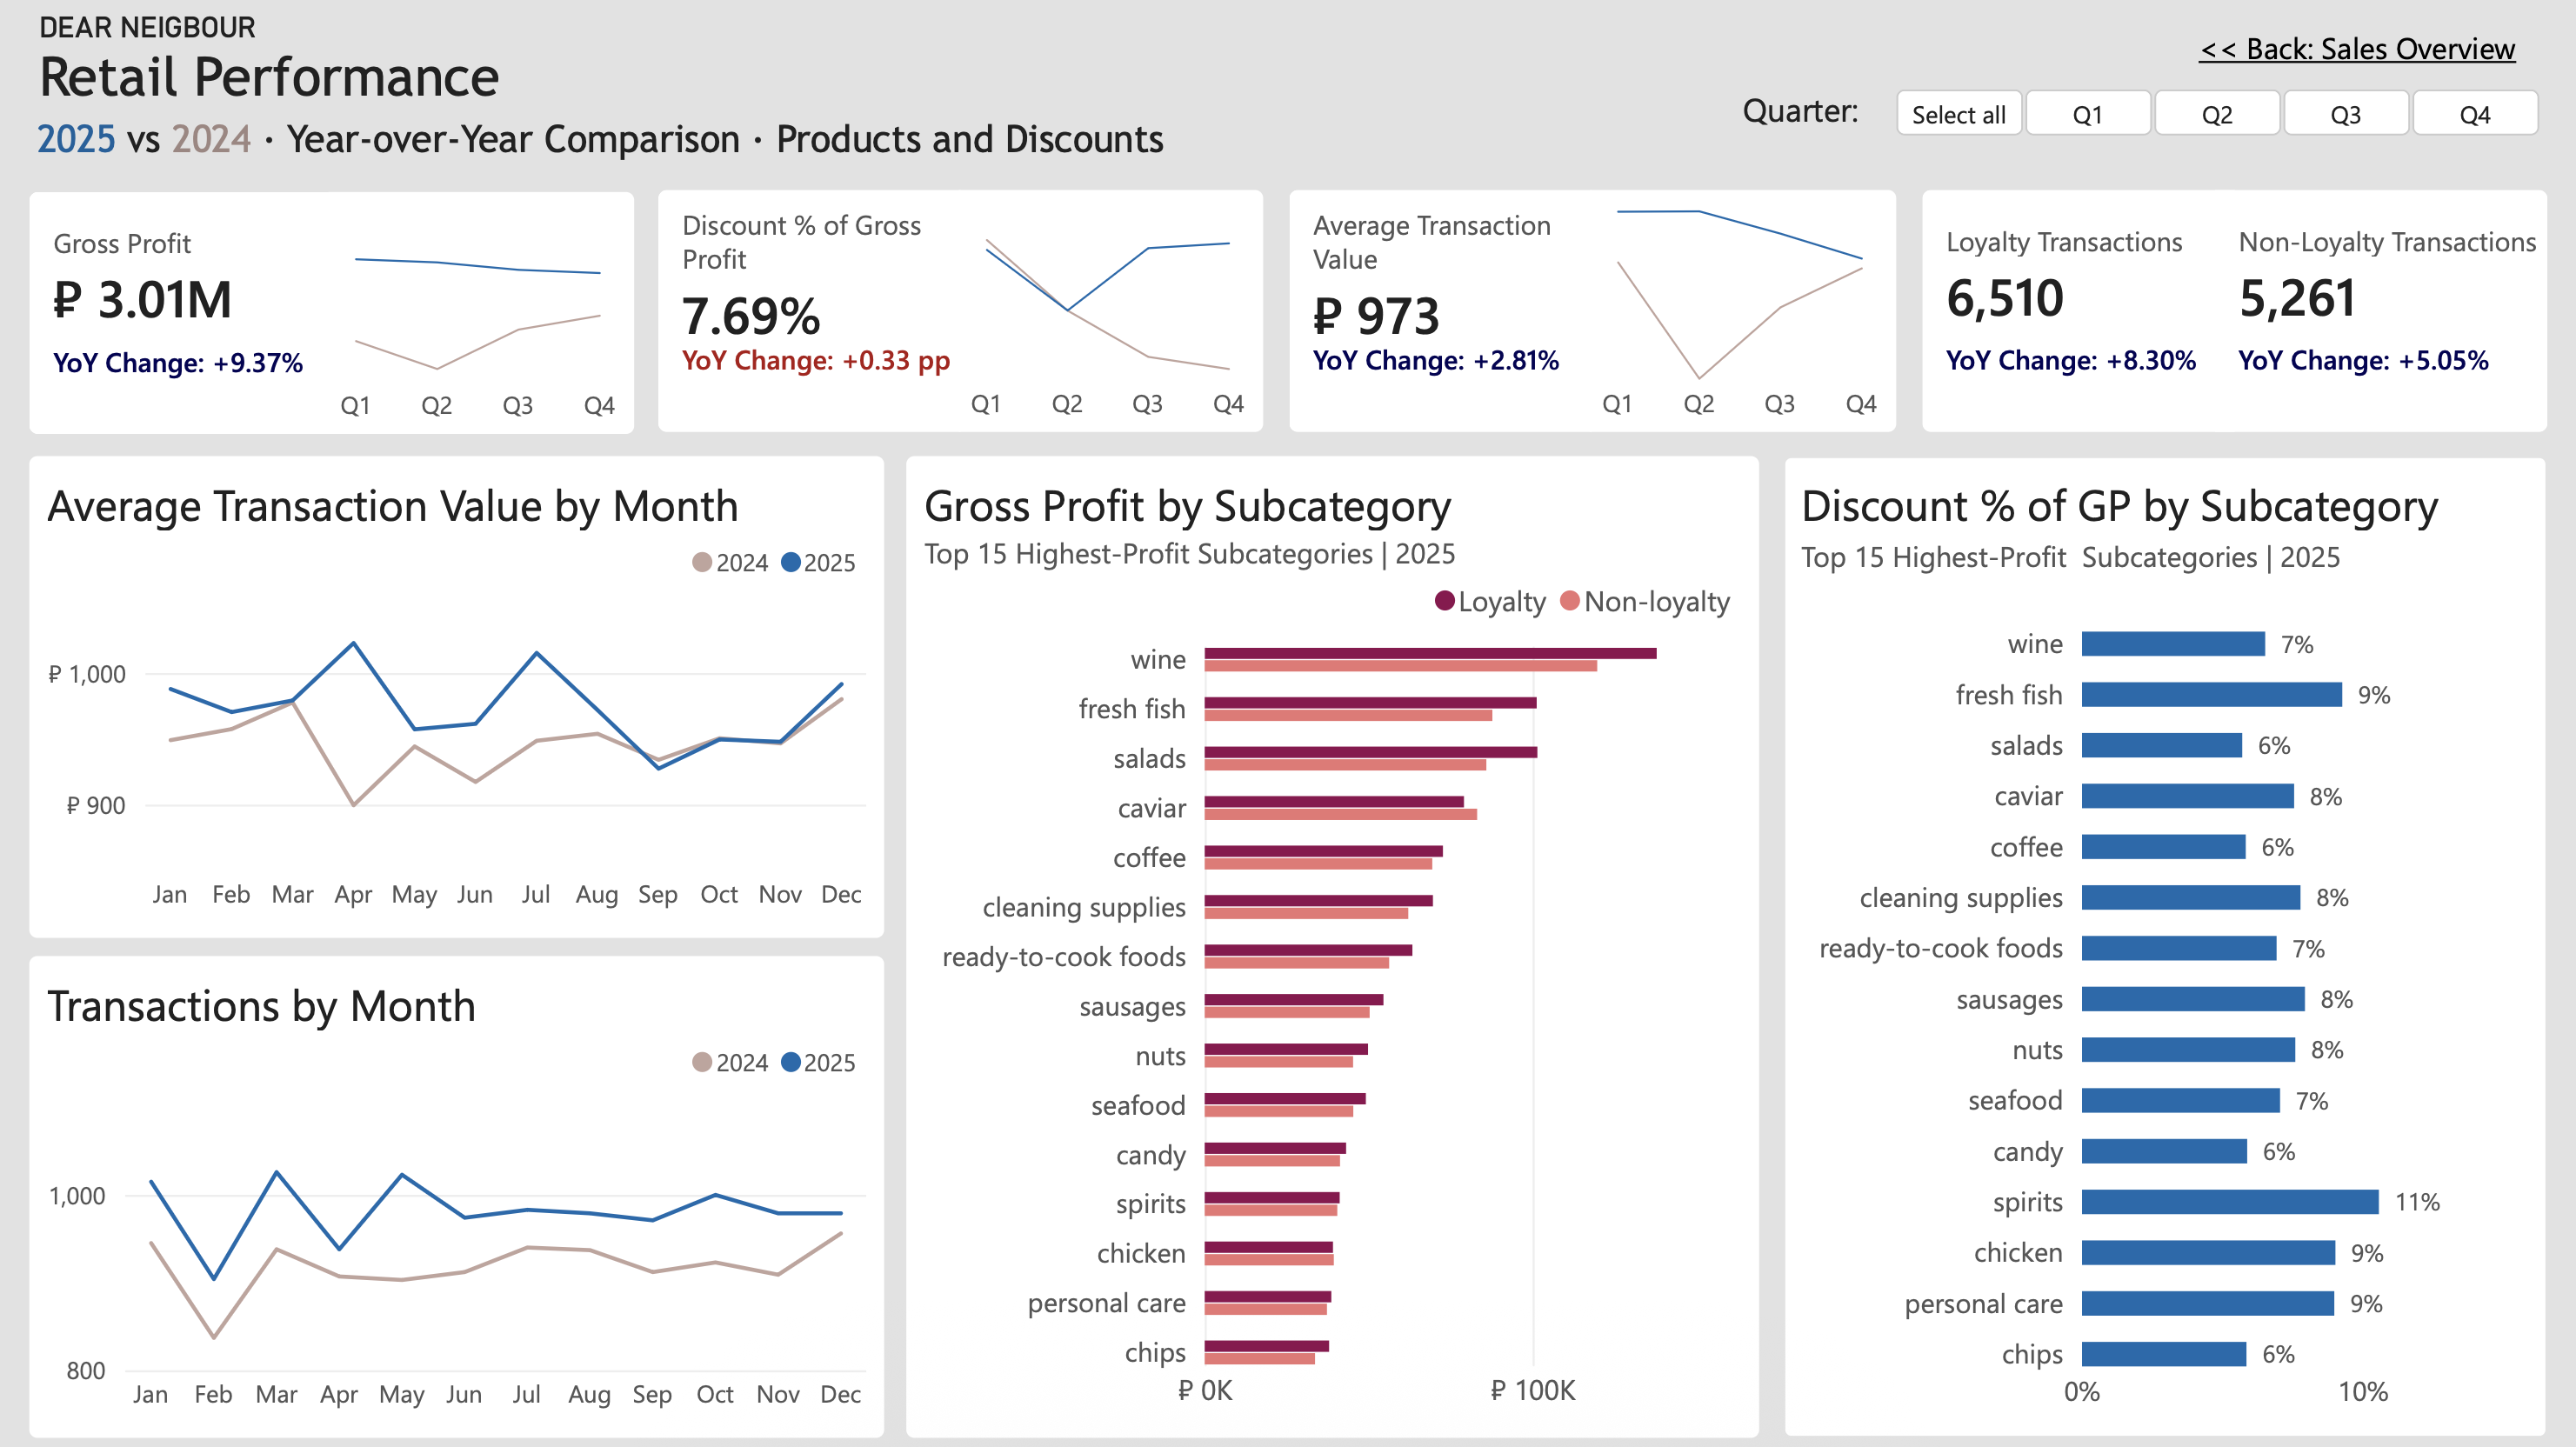

This screenshot's page, from the dashboard's own definition file:
{"tool":"powerbi","page":{"name":"Customers & Loyalty","canvas":[1280,720],"ordinal":1},"visuals":[{"type":"textbox","box":[0,0,290,60],"z":0},{"type":"advancedSlicerVisual","fields":{"Values":["calendar.Quarter"]},"box":[936,43,325,25],"z":1000},{"type":"textbox","box":[0,53.5,644.9,33.1],"z":2000},{"type":"cardVisual","fields":{"Data":["fact_sales.Discount % of Gross Profit"]},"box":[330,95,150,120],"z":3000},{"type":"cardVisual","fields":{"Data":["fact_sales.Average Check"]},"box":[645,95,150,120],"z":4000},{"type":"cardVisual","fields":{"Data":["fact_sales.Loyalty Transactions"]},"box":[962.1,95,150,120],"z":5000},{"type":"lineChart","title":"Gross Margin","fields":{"Category":["calendar.Quarter"],"Series":["calendar.Year"],"Y":["fact_sales.Average Check"]},"box":[793.3,95,154.1,120],"z":6000},{"type":"lineChart","title":"Gross Margin","fields":{"Category":["calendar.Quarter"],"Series":["calendar.Year"],"Y":["fact_sales.Gross Profit"]},"box":[161.4,95.9,154.5,120],"z":7000},{"type":"lineChart","title":"Gross Margin","fields":{"Category":["calendar.Quarter"],"Series":["calendar.Year"],"Y":["fact_sales.Discount % of Gross Profit"]},"box":[476,95,154.1,120],"z":8000},{"type":"cardVisual","fields":{"Data":["fact_sales.Non-Loyalty Transactions"]},"box":[1112.1,95,150,120],"z":9000},{"type":"clusteredBarChart","title":"Gross Profit by Subcategory","fields":{"Category":["dim_products.subcategory"],"Series":["fact_sales.Customer Type"],"Y":["fact_sales.Gross Profit"]},"box":[462,226.7,390,476.7],"z":10000},{"type":"textbox","box":[860,43,75,25],"z":11000},{"type":"cardVisual","fields":{"Data":["fact_sales.Gross Profit"]},"box":[15.6,95.6,150,120],"z":12000},{"type":"lineChart","title":"Transactions by Month","fields":{"Category":["calendar.Month"],"Series":["calendar.Year"],"Y":["fact_sales.Transactions"]},"box":[15.6,473.3,424.4,230],"z":13000},{"type":"lineChart","title":"Average Transaction Value  by Month","fields":{"Category":["calendar.Month"],"Series":["calendar.Year"],"Y":["fact_sales.Average Check"]},"box":[15.6,226.7,424.4,230],"z":14000},{"type":"clusteredBarChart","title":"Discount % of GP by Subcategory","fields":{"Category":["dim_products.subcategory"],"Y":["fact_sales.Discount % of Gross Profit"]},"box":[872.2,226.7,390,476.7],"z":15000},{"type":"actionButton","title":"Next: Customers & Loyalty","box":[1089.4,0,191.6,37],"z":16000}]}

Visuals, with their boxes in screenshot pixels (x1, y1, x2, y2), scaled from the page's 1280x720 canvas onto the 2576x1447 screenshot:
textbox: 0, 0, 584, 121
advancedSlicerVisual - calendar.Quarter: 1884, 86, 2538, 137
textbox: 0, 108, 1298, 174
cardVisual - fact_sales.Discount % of Gross Profit: 664, 191, 966, 432
cardVisual - fact_sales.Average Check: 1298, 191, 1600, 432
cardVisual - fact_sales.Loyalty Transactions: 1936, 191, 2238, 432
"Gross Margin" lineChart: 1597, 191, 1906, 432
"Gross Margin" lineChart: 324, 193, 636, 434
"Gross Margin" lineChart: 958, 191, 1268, 432
cardVisual - fact_sales.Non-Loyalty Transactions: 2238, 191, 2540, 432
"Gross Profit by Subcategory" clusteredBarChart: 930, 456, 1715, 1414
textbox: 1731, 86, 1882, 137
cardVisual - fact_sales.Gross Profit: 31, 192, 333, 433
"Transactions by Month" lineChart: 31, 951, 885, 1413
"Average Transaction Value  by Month" lineChart: 31, 456, 885, 917
"Discount % of GP by Subcategory" clusteredBarChart: 1755, 456, 2540, 1414
"Next: Customers & Loyalty" actionButton: 2192, 0, 2575, 75
